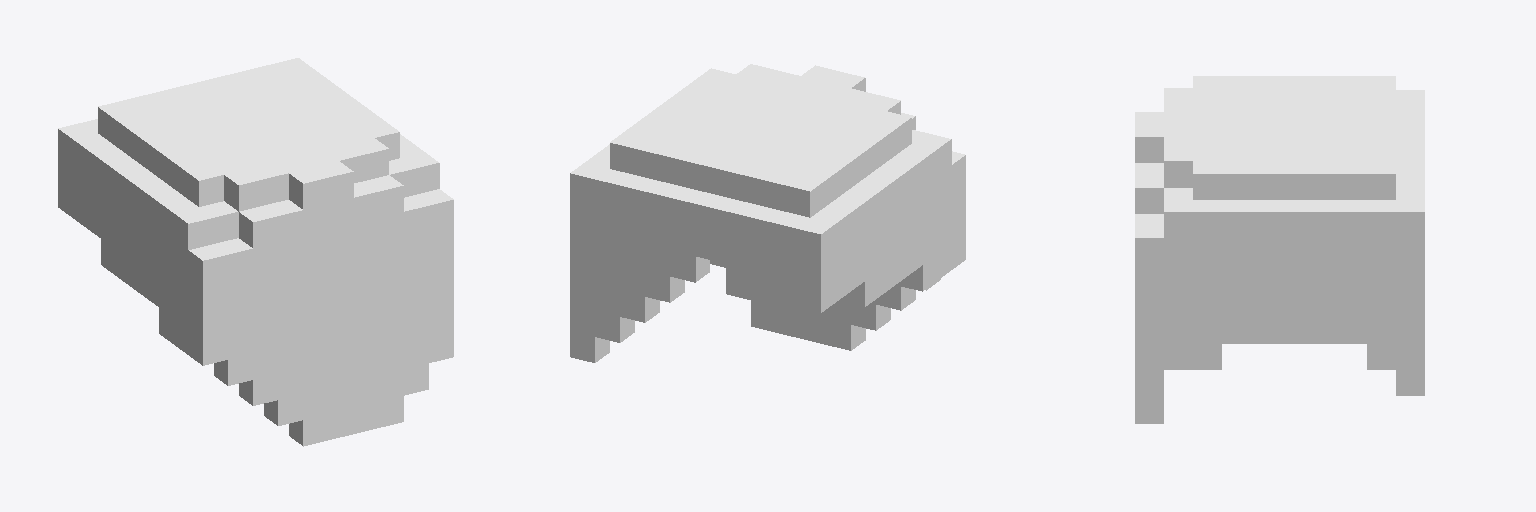
Rendered from Hair10.obj.
3 renders of one model, left to right at view 1: azimuth 30°, elevation 25°; view 2: azimuth 150°, elevation 25°; view 3: azimuth 270°, elevation 25°, orthographic.
Visible parts, largest first — view 1: object 1; view 2: object 1; view 3: object 1.
Part boxes in pixels (left/top/right/bottom): object 1: left=58, top=58, right=453, bottom=446; object 1: left=570, top=64, right=965, bottom=362; object 1: left=1135, top=76, right=1424, bottom=423.
Size of the model in its own units: 1 by 1 by 1.